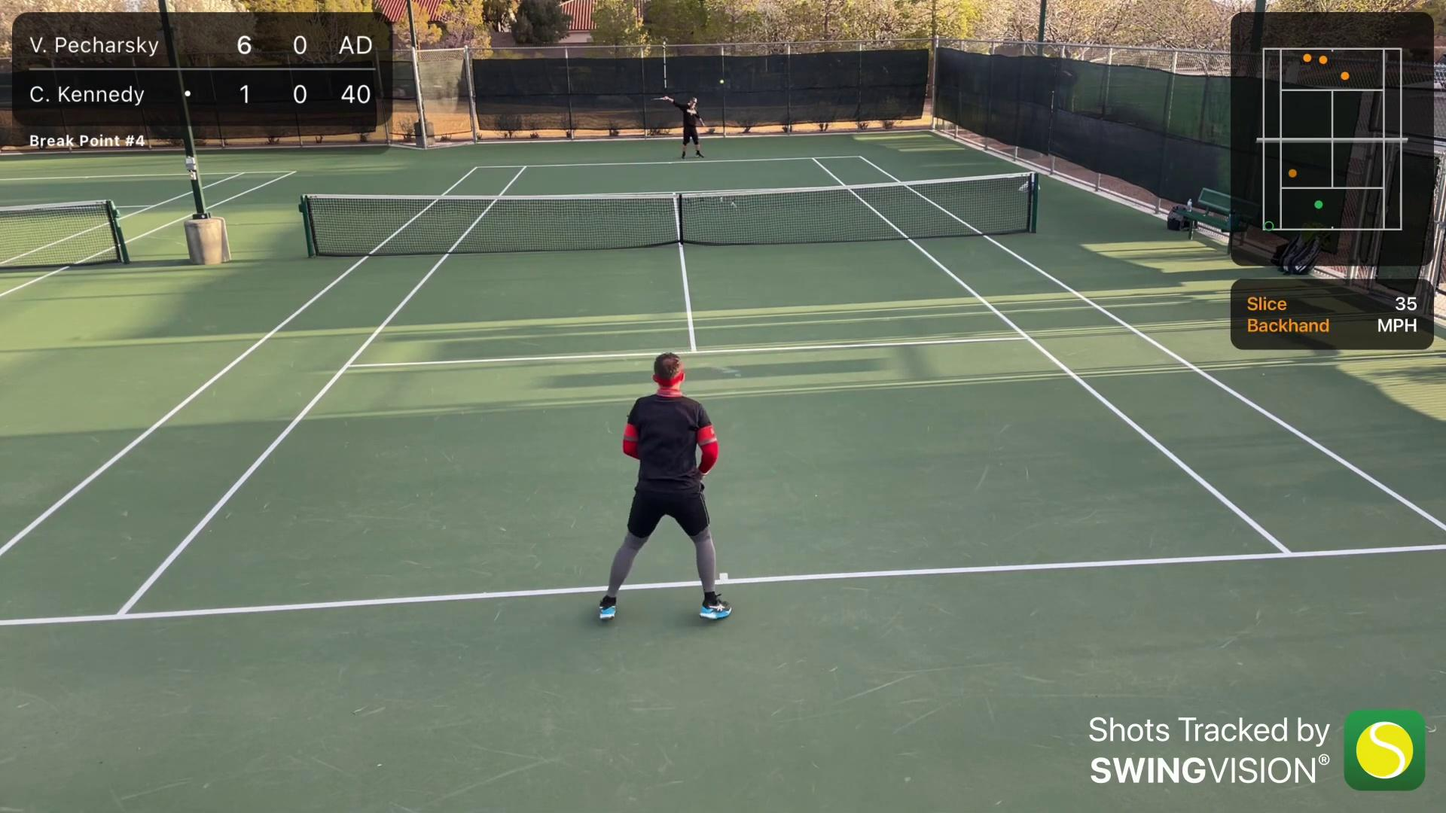ball: (719, 80, 725, 84)
